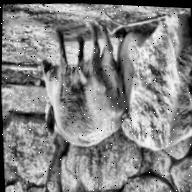boar: (17, 34, 137, 162)
